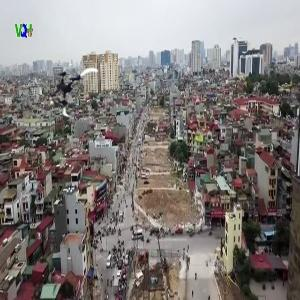drone: (42, 63, 99, 120)
